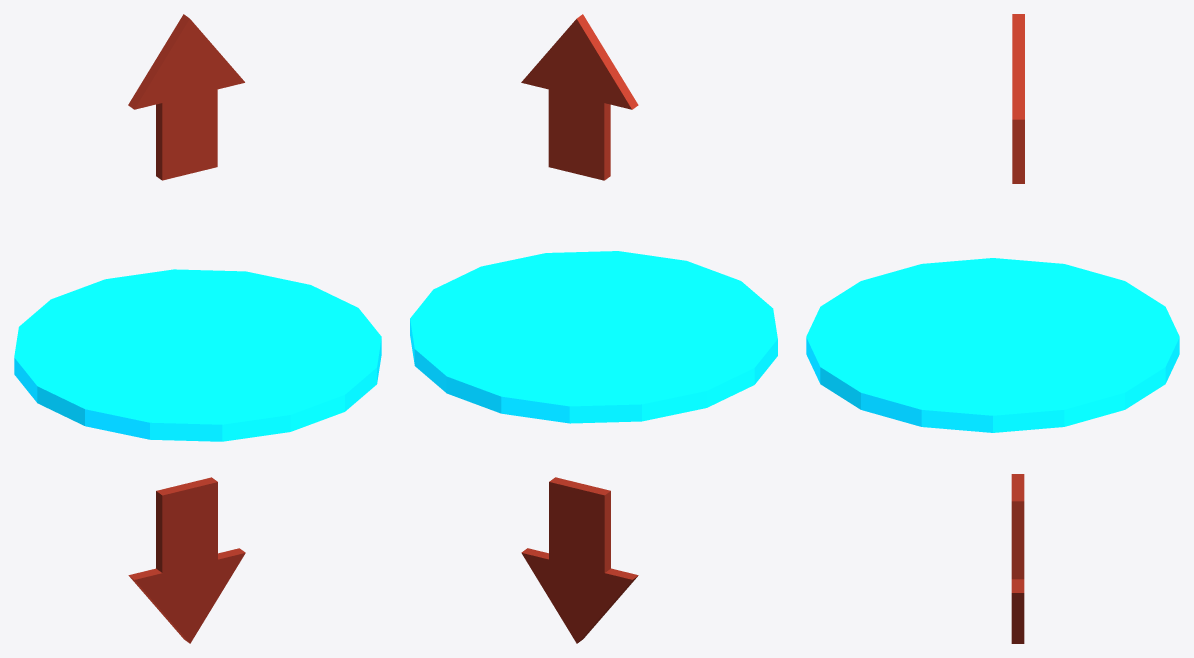
Rendered from Vertical_Blue_Pad.glb.
The picture shows the model from 3 angles, left to right: view 1: azimuth 30°, elevation 25°; view 2: azimuth 150°, elevation 25°; view 3: azimuth 270°, elevation 25°; orthographic projection.
Visible parts, largest first — view 1: Cylinder.018, Plane, Plane.001; view 2: Cylinder.018, Plane.001, Plane; view 3: Cylinder.018, Plane, Plane.001.
Boxes of the visible parts, box(x1,y1,x2,y2) form: Cylinder.018: box(14, 269, 381, 441); Plane: box(128, 477, 245, 643); Plane.001: box(128, 14, 244, 180); Cylinder.018: box(410, 251, 777, 423); Plane.001: box(521, 14, 638, 180); Plane: box(521, 477, 638, 643); Cylinder.018: box(806, 258, 1179, 432); Plane: box(1011, 474, 1024, 643); Plane.001: box(1012, 14, 1024, 183).
Size of the model in its own units: 2 by 3.72 by 2.
2 materials, 2 textured.
